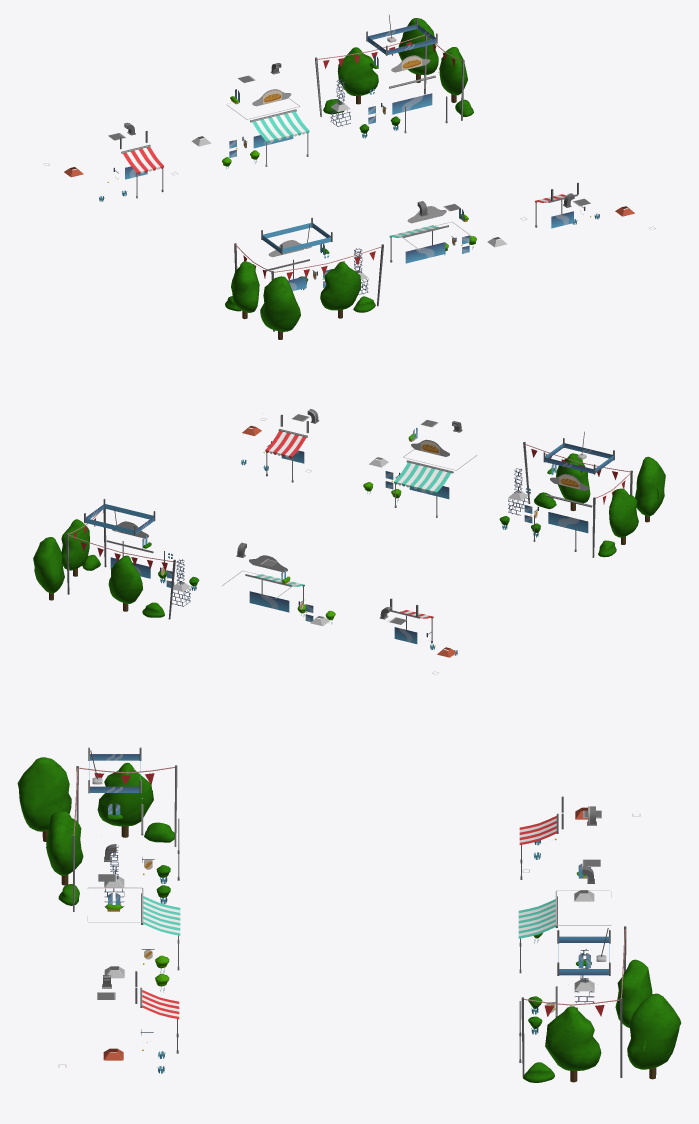
File: RoadMap.obj
The picture shows the model from 3 angles, top to bottom: view 1: azimuth 30°, elevation 25°; view 2: azimuth 150°, elevation 25°; view 3: azimuth 270°, elevation 25°; orthographic projection. The views are drawn at different scales.
Parts seen in each view (by area): view 1: RoadMap; view 2: RoadMap; view 3: RoadMap.
Boxes of the visible parts, box(x1,y1,x2,y2) form: RoadMap: box(43, 15, 655, 339); RoadMap: box(33, 408, 665, 674); RoadMap: box(17, 747, 681, 1082).
Bounding box in the file's own units: 62.87 × 15.2 × 66.08.
Materials: 4 (4 with a texture image).
